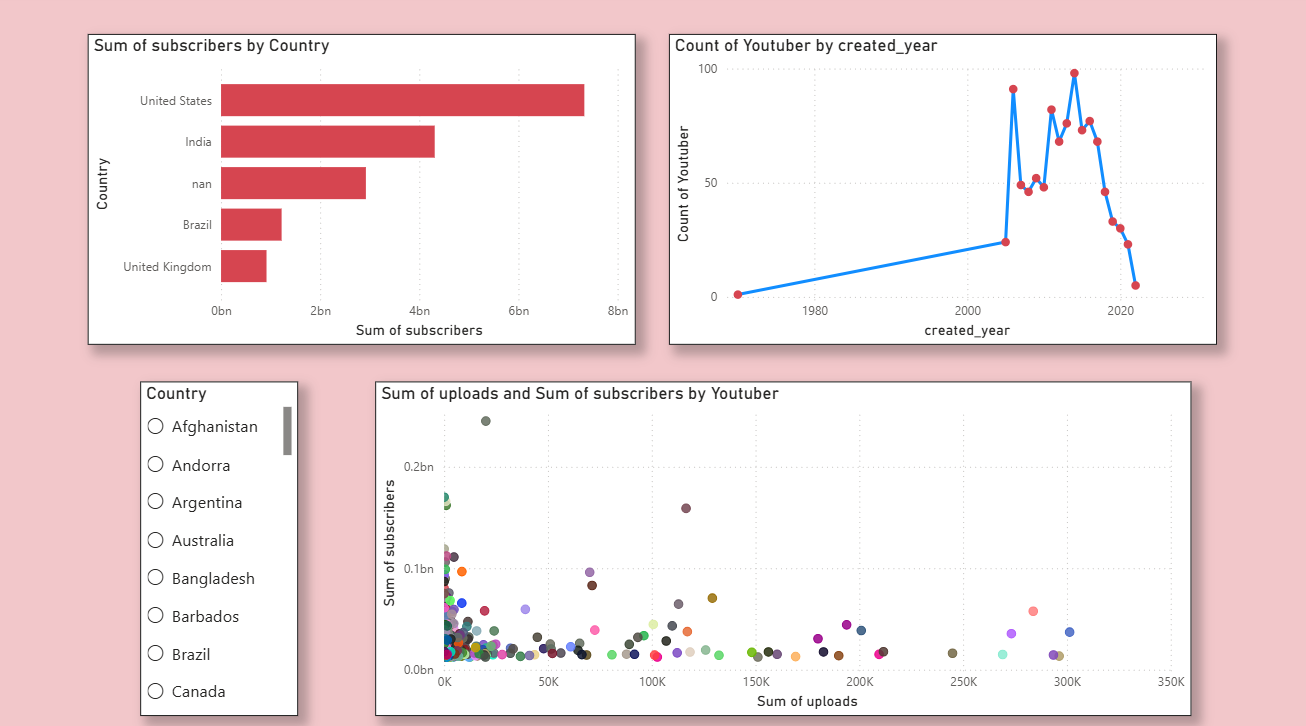

The page's visual inventory and layout, read from the dashboard file:
{"tool":"powerbi","page":{"name":"Detailed Insights","canvas":[1280,720],"ordinal":1},"visuals":[{"type":"lineChart","fields":{"Category":["Global YouTube Statistics.created_year"],"Y":["Global YouTube Statistics.Youtuber"]},"box":[655.7,38.6,535.7,304.3],"z":0},{"type":"clusteredBarChart","fields":{"Category":["Global YouTube Statistics.Country"],"Y":["Global YouTube Statistics.subscribers"]},"box":[87.1,38.6,535.7,304.3],"z":1000},{"type":"scatterChart","fields":{"X":["Global YouTube Statistics.uploads"],"Y":["Global YouTube Statistics.subscribers"],"Series":["Global YouTube Statistics.Youtuber"]},"box":[368.6,378.6,798.6,327.1],"z":2000},{"type":"listSlicer","fields":{"Values":["Global YouTube Statistics.Country"]},"box":[138.6,378.6,154.3,327.1],"z":3000}]}

Visuals, with their boxes in screenshot pixels (x1, y1, x2, y2), scaled from the page's 1280x720 canvas onto the 1306x726 screenshot:
lineChart - Global YouTube Statistics.created_year x Global YouTube Statistics.Youtuber: pyautogui.locateOnScreen(669, 39, 1216, 346)
clusteredBarChart - Global YouTube Statistics.Country x Global YouTube Statistics.subscribers: pyautogui.locateOnScreen(89, 39, 635, 346)
scatterChart - Global YouTube Statistics.uploads x Global YouTube Statistics.subscribers: pyautogui.locateOnScreen(376, 382, 1191, 712)
listSlicer - Global YouTube Statistics.Country: pyautogui.locateOnScreen(141, 382, 299, 712)
